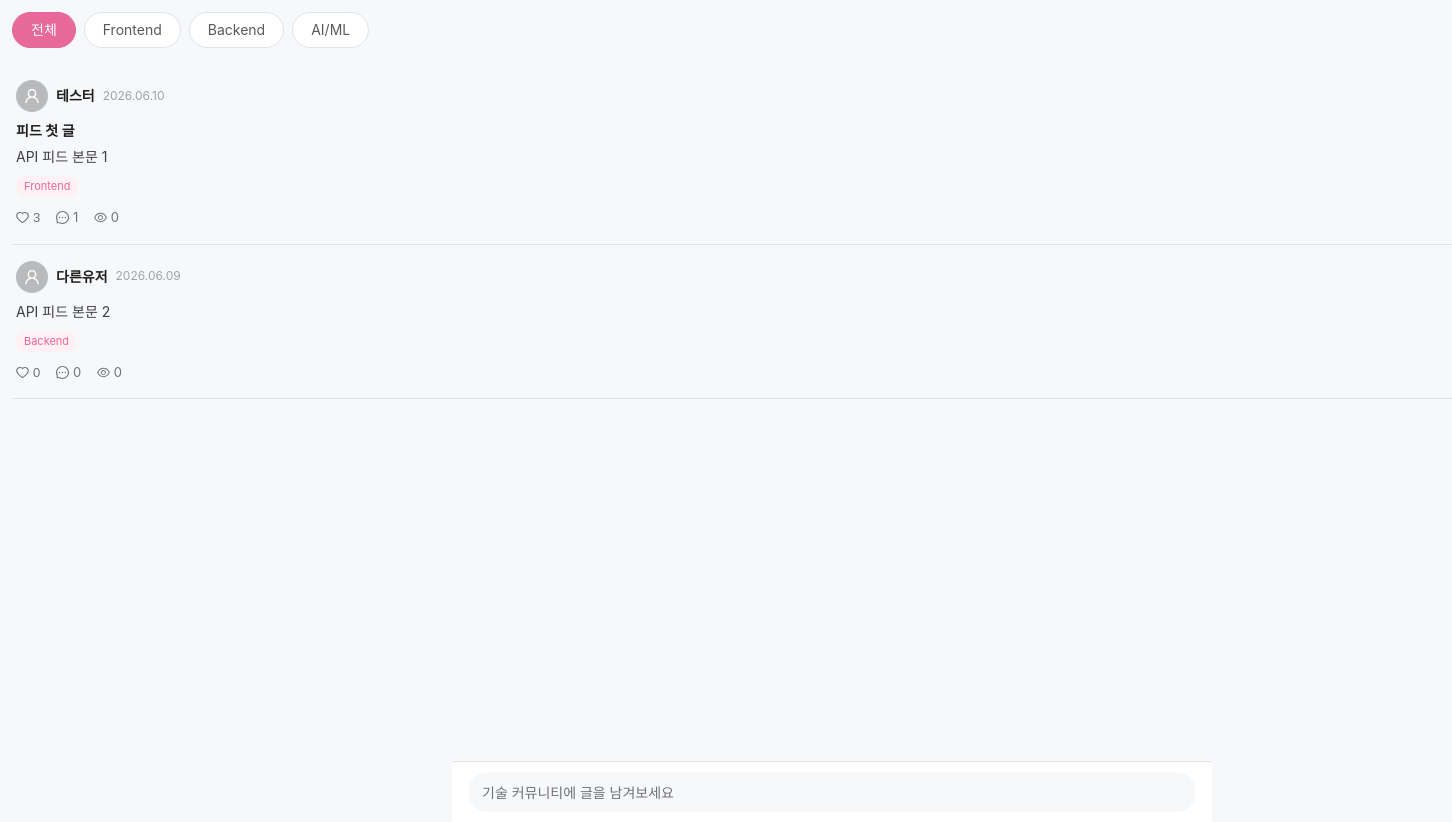
TechCommunity 피드 › 비로그인 상태에서 카드 하트 클릭 시 로그인 유도 모달을 띄우고 요청하지 않는다
The width and height of the screenshot is (1452, 822).
Expected: the text "API 피드 본문 1" is shown, [16,148,107,165]
Step 1. Click the button named "좋아요" → (28, 218), box [16,207,40,228]
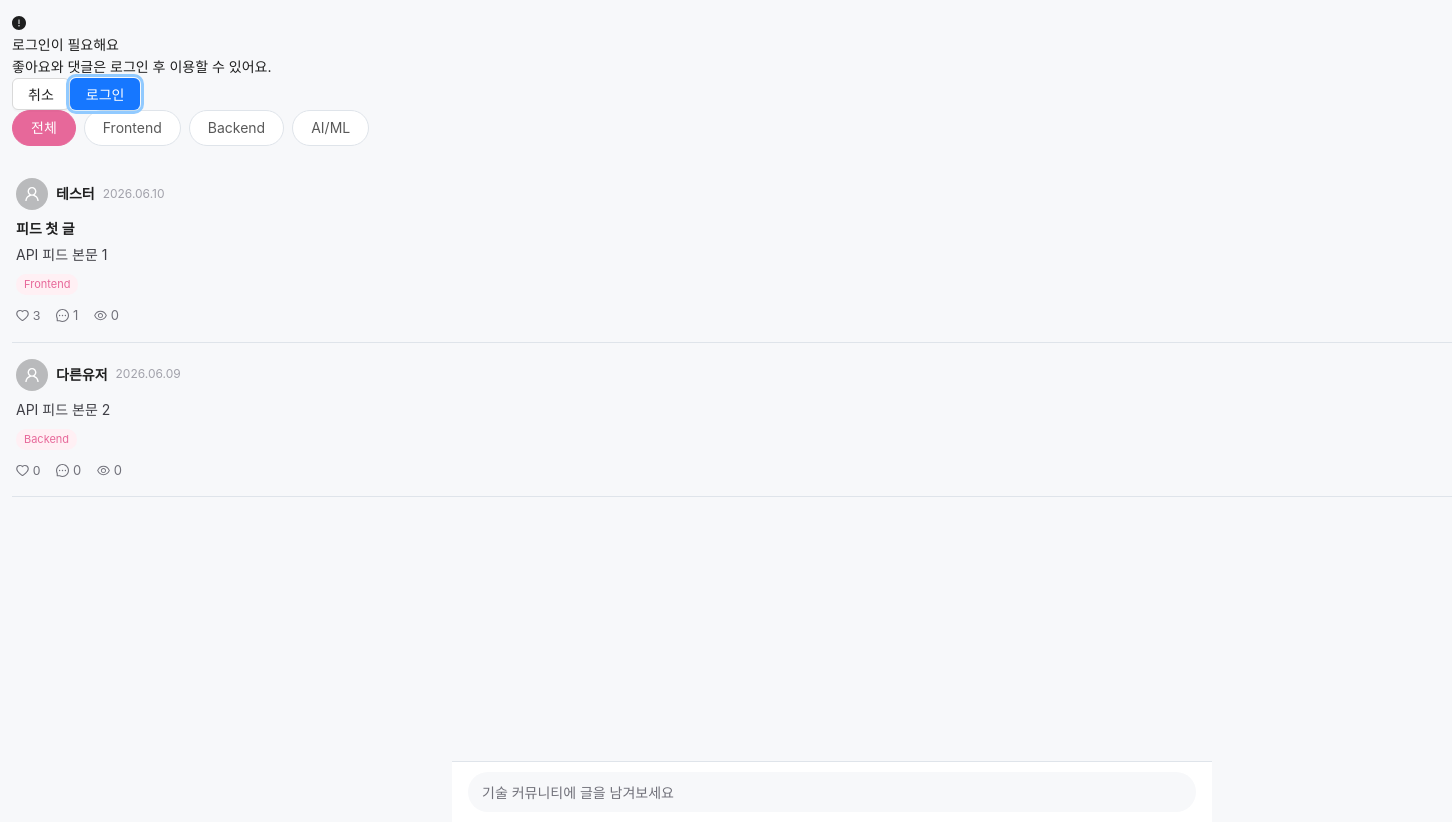
Expected: the button named "좋아요" reads "3", [16,305,40,326]
Expected: the text "로그인이 필요해요" is shown, [12,36,119,53]
Expected: the text "좋아요와 댓글은 로그인 후 이용할 수 있어요." is shown, [12,58,272,75]
